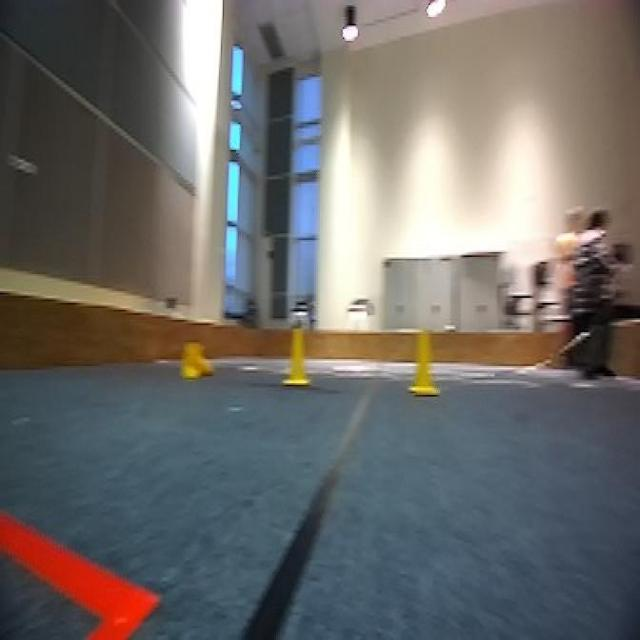frc_cone: (406, 328, 444, 398), (280, 323, 317, 388), (179, 342, 214, 381)
